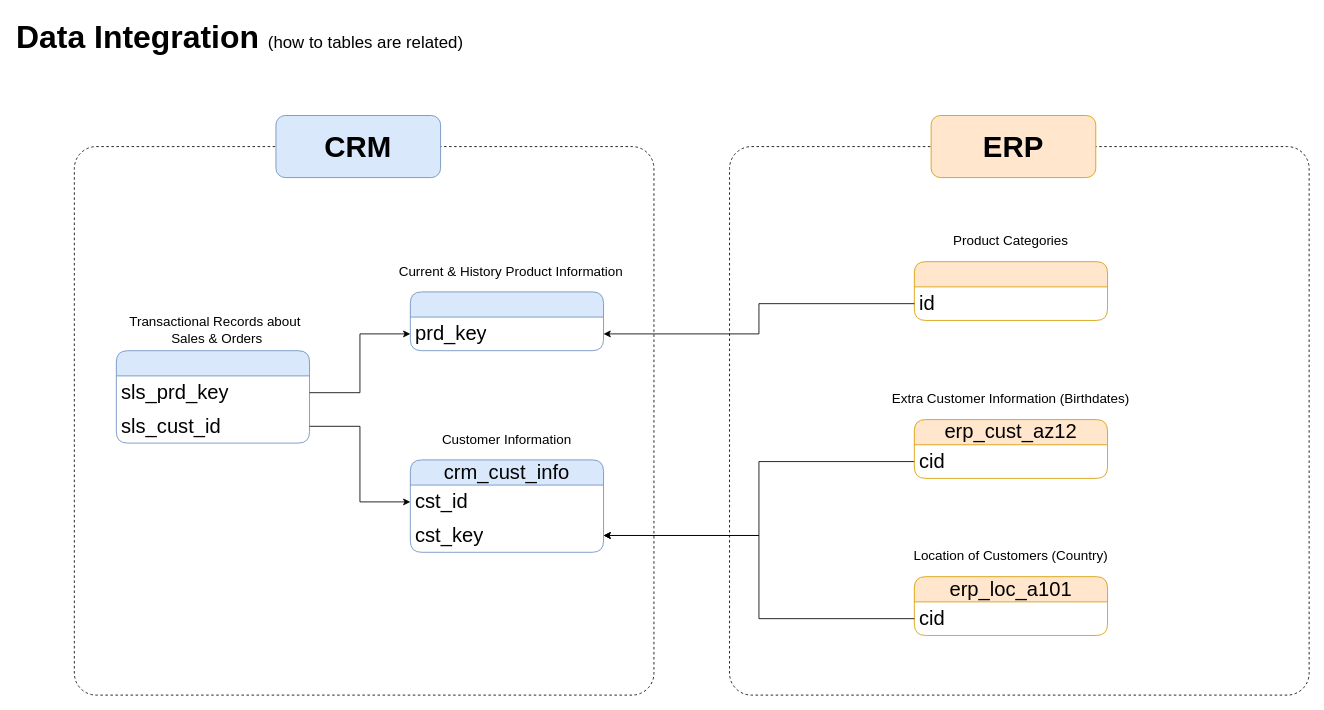
Image size: 1324x710. Some labels were removed from this diagram. Here are the shapes that lost their labels. From the top down, the box of each, then its label:
(914, 261, 1108, 320): erp_px_cat_g1v2
(410, 291, 604, 351): crm_prd_info
(116, 350, 310, 443): crm_sales_details
